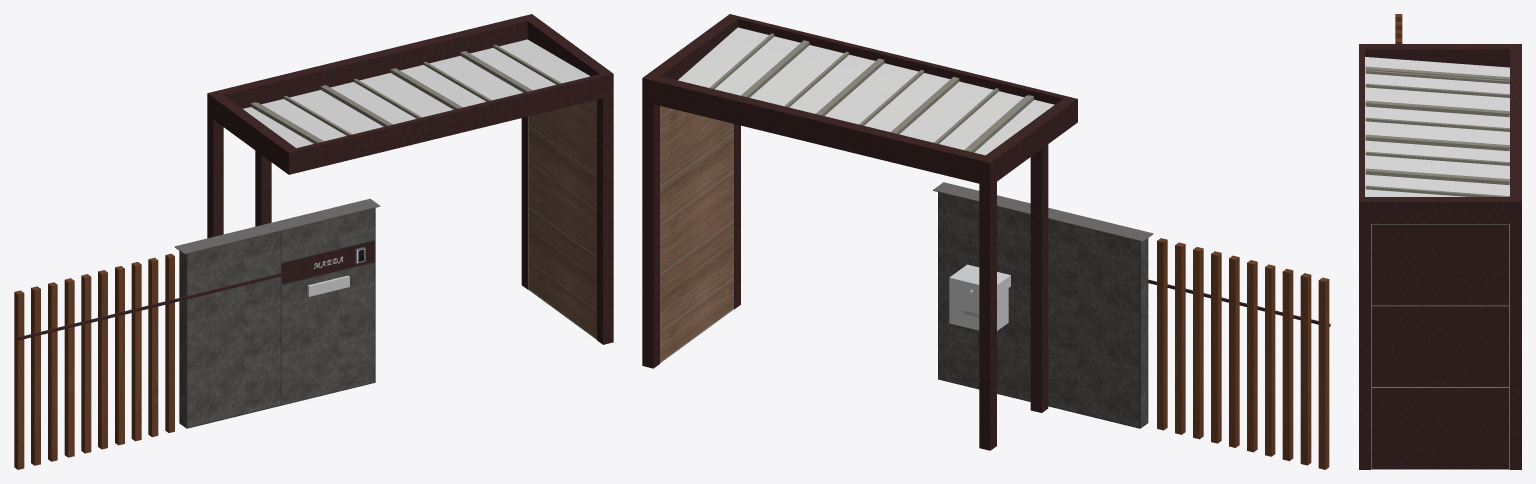
Rendered from hy20-e_rustycopper.fbx.
The picture shows the model from 3 angles, left to right: view 1: azimuth 30°, elevation 25°; view 2: azimuth 150°, elevation 25°; view 3: azimuth 270°, elevation 25°; orthographic projection. The views are drawn at different scales.
Visible parts, largest first — view 1: hy20-e_rustycopper; view 2: hy20-e_rustycopper; view 3: hy20-e_rustycopper.
Boxes of the visible parts, <box> form: hy20-e_rustycopper: <box>14,14,613,469</box>; hy20-e_rustycopper: <box>642,14,1330,469</box>; hy20-e_rustycopper: <box>1359,14,1521,469</box>.
Size of the model in its own units: 551 by 245 by 135.
19 materials, 10 textured.
